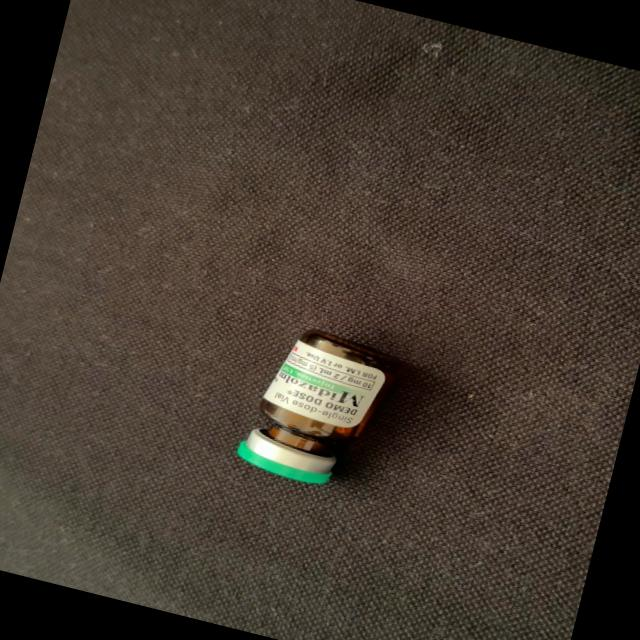midazolm: (235, 320, 400, 494)
